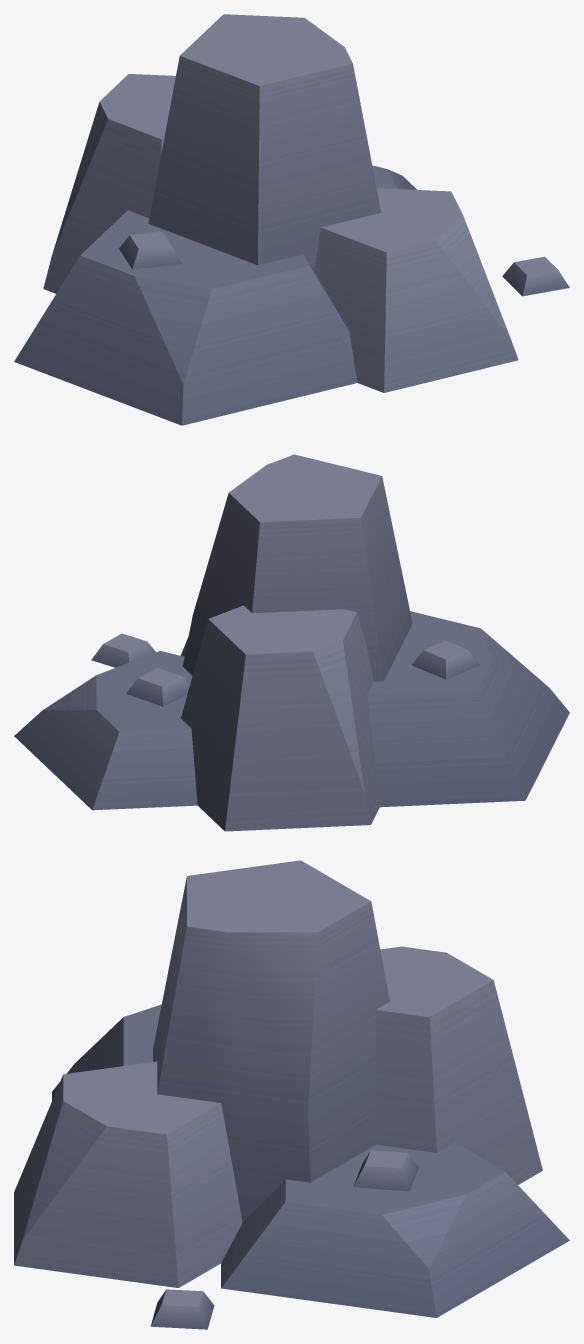
The model's file is rock-b.glb.
3 renders of one model, top to bottom at view 1: azimuth 30°, elevation 25°; view 2: azimuth 150°, elevation 25°; view 3: azimuth 270°, elevation 25°, orthographic. The views are drawn at different scales.
Visible parts, largest first — view 1: rock-b; view 2: rock-b; view 3: rock-b.
Boxes of the visible parts, x1,y1,x2,y2 form: rock-b: (14,14,569,425); rock-b: (14,454,569,831); rock-b: (14,860,569,1329).
Bounding box in the file's own units: 0.8346 × 0.4186 × 0.7247.
1 material, 1 textured.
